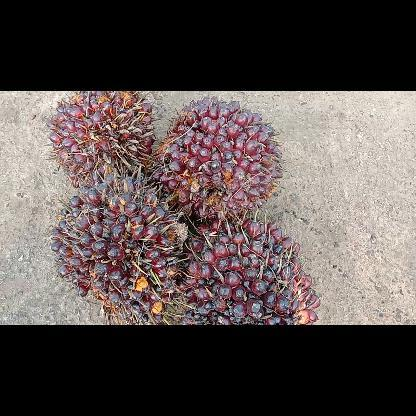Kurang masak: (47, 166, 191, 324), (183, 212, 323, 324), (47, 90, 157, 192)
TBS masak: (152, 94, 286, 224)
